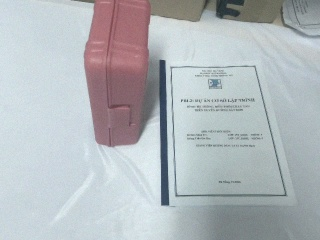box: (78, 1, 156, 150), (214, 1, 284, 24), (148, 1, 213, 22)
